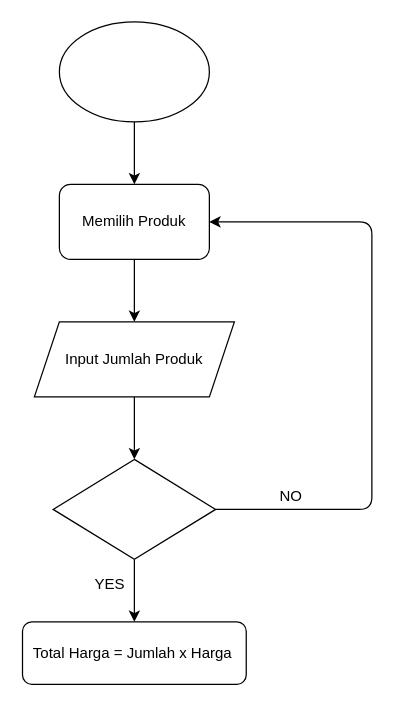
Image size: 404x706. Some labels were removed from this diagram. Here are the shapes that lost their labels. From the top down, the box of each, then its label:
(58, 21, 209, 122): START
(52, 458, 216, 559): Masukkan ke Keranjang
